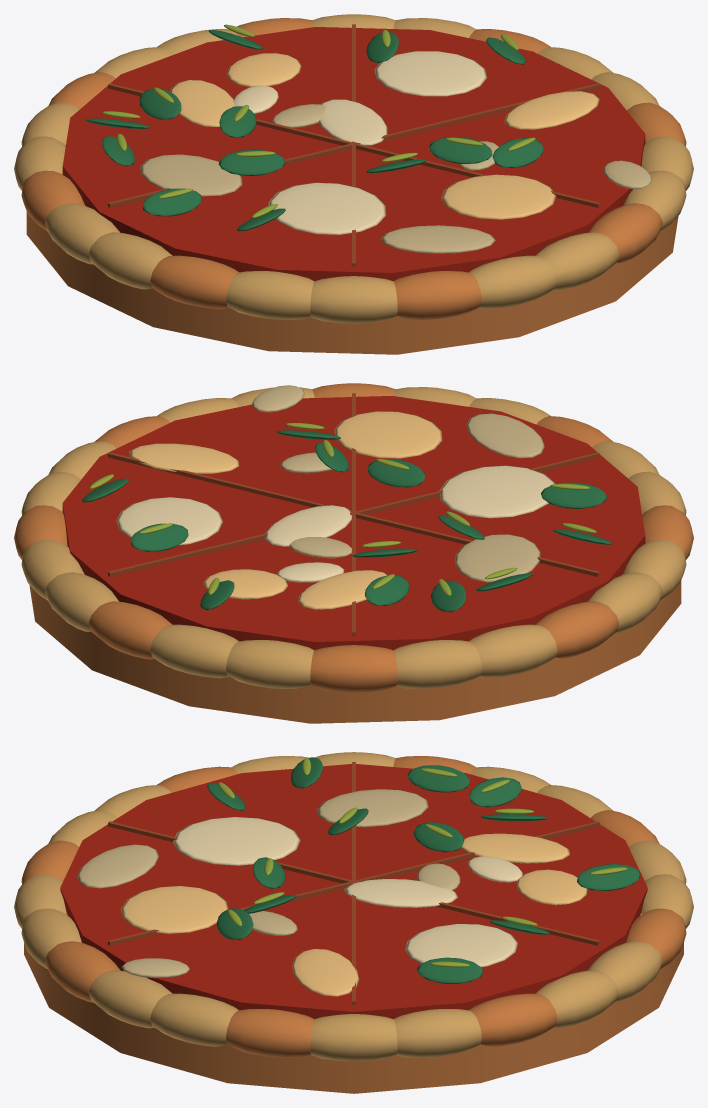
The model's file is CMU3DRMCFoodPizzaMargheritaFullExtraCloud.glb.
3 views of the same model, one above another, from view 1: azimuth 30°, elevation 25°; view 2: azimuth 150°, elevation 25°; view 3: azimuth 270°, elevation 25° (orthographic).
Visible parts, largest first — view 1: thin tomato sauce bed, baked circular dough, source-traced melted cheese cluster 02, source-traced melted cheese cluster 09, source-traced melted cheese cluster 11, rounded separate crust section 17, rounded separate crust section 16, rounded separate crust section 18, rounded separate crust section 15, rounded separate crust section 19, rounded separate crust section 20, rounded separate crust section 14 (+38 smaller); view 2: thin tomato sauce bed, baked circular dough, source-traced melted cheese cluster 02, source-traced melted cheese cluster 09, rounded separate crust section 09, rounded separate crust section 10, rounded separate crust section 08, rounded separate crust section 11, rounded separate crust section 07, source-traced melted cheese cluster 11, rounded separate crust section 06, rounded separate crust section 12 (+36 smaller); view 3: thin tomato sauce bed, baked circular dough, source-traced melted cheese cluster 02, source-traced melted cheese cluster 09, rounded separate crust section 01, rounded separate crust section 02, rounded separate crust section 24, source-traced melted cheese cluster 11, rounded separate crust section 03, rounded separate crust section 23, rounded separate crust section 04, rounded separate crust section 22 (+38 smaller).
Boxes of the visible parts, box(x1,y1,x2,y2) form: thin tomato sauce bed: box(62, 27, 645, 281); baked circular dough: box(26, 144, 678, 354); source-traced melted cheese cluster 02: box(268, 182, 385, 234); source-traced melted cheese cluster 09: box(441, 174, 556, 219); source-traced melted cheese cluster 11: box(374, 51, 486, 96); rounded separate crust section 17: box(310, 276, 397, 323); rounded separate crust section 16: box(226, 271, 314, 319); rounded separate crust section 18: box(393, 271, 481, 319); rounded separate crust section 15: box(150, 255, 238, 309); rounded separate crust section 19: box(469, 255, 557, 309); rounded separate crust section 20: box(535, 232, 619, 290); rounded separate crust section 14: box(88, 232, 172, 289); thin tomato sauce bed: box(62, 396, 645, 650); baked circular dough: box(29, 513, 681, 723); source-traced melted cheese cluster 02: box(439, 465, 555, 518); source-traced melted cheese cluster 09: box(334, 411, 442, 458); rounded separate crust section 09: box(310, 645, 397, 692); rounded separate crust section 10: box(393, 640, 481, 688); rounded separate crust section 08: box(226, 640, 314, 688); rounded separate crust section 11: box(469, 624, 557, 678); rounded separate crust section 07: box(150, 624, 238, 678); source-traced melted cheese cluster 11: box(116, 497, 222, 544); rounded separate crust section 06: box(88, 601, 172, 659); rounded separate crust section 12: box(535, 601, 619, 658); thin tomato sauce bed: box(60, 764, 647, 1018); baked circular dough: box(24, 913, 683, 1093); source-traced melted cheese cluster 02: box(173, 817, 300, 865); source-traced melted cheese cluster 09: box(121, 886, 228, 933); rounded separate crust section 01: box(310, 1014, 397, 1061); rounded separate crust section 02: box(393, 1009, 481, 1057); rounded separate crust section 24: box(226, 1009, 314, 1057); source-traced melted cheese cluster 11: box(405, 924, 517, 966); rounded separate crust section 03: box(469, 993, 557, 1046); rounded separate crust section 23: box(150, 993, 238, 1046); rounded separate crust section 04: box(535, 970, 619, 1028); rounded separate crust section 22: box(88, 970, 172, 1028).
Size of the model in its own units: 1 by 0.1485 by 1.
